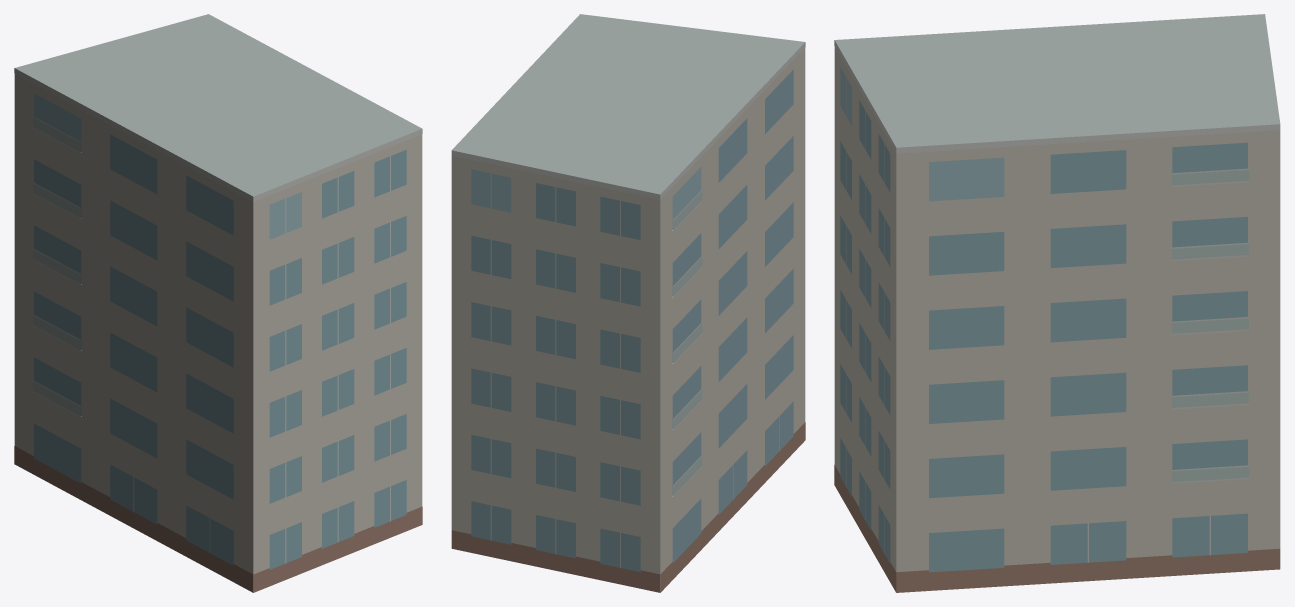
The model's file is survey-upis-32538000.glb.
3 renders of one model, left to right at view 1: azimuth 30°, elevation 25°; view 2: azimuth 150°, elevation 25°; view 3: azimuth 270°, elevation 25°, orthographic. The views are drawn at different scales.
Visible parts, largest first — view 1: survey-upis-32538000.tmp; view 2: survey-upis-32538000.tmp; view 3: survey-upis-32538000.tmp.
Boxes of the visible parts, x1,y1,x2,y2 form: survey-upis-32538000.tmp: (14,14,422,592); survey-upis-32538000.tmp: (451,14,805,592); survey-upis-32538000.tmp: (834,14,1280,592).
Bounding box in the file's own units: 11.8 × 18.3 × 16.62.
